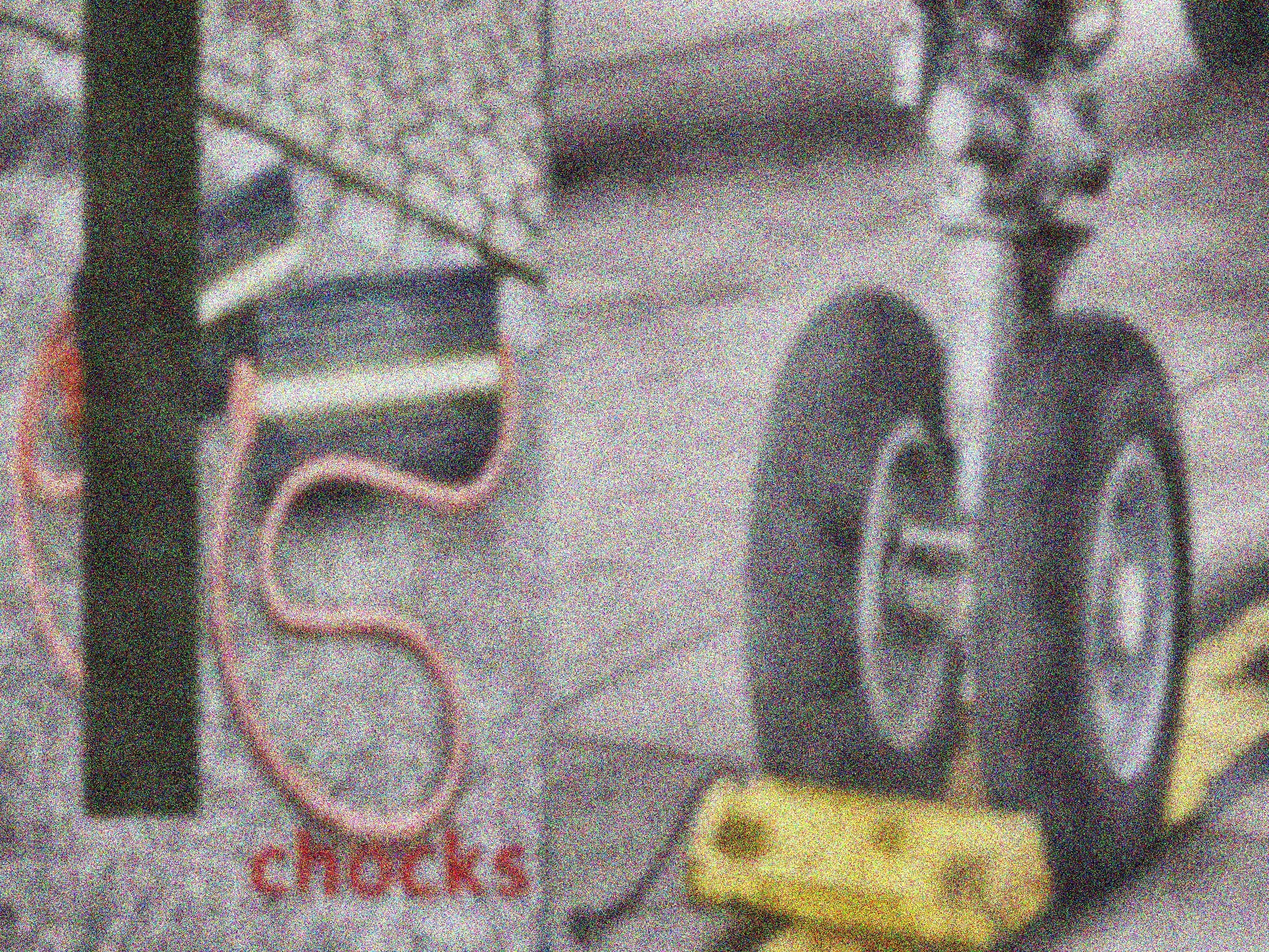chock: (69, 159, 309, 461), (680, 761, 1060, 940), (252, 265, 518, 509)
wheel: (973, 312, 1192, 894), (742, 288, 964, 806), (1179, 0, 1265, 65)
